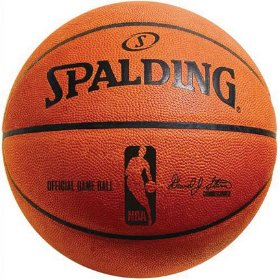basketball: (3, 2, 278, 280)
